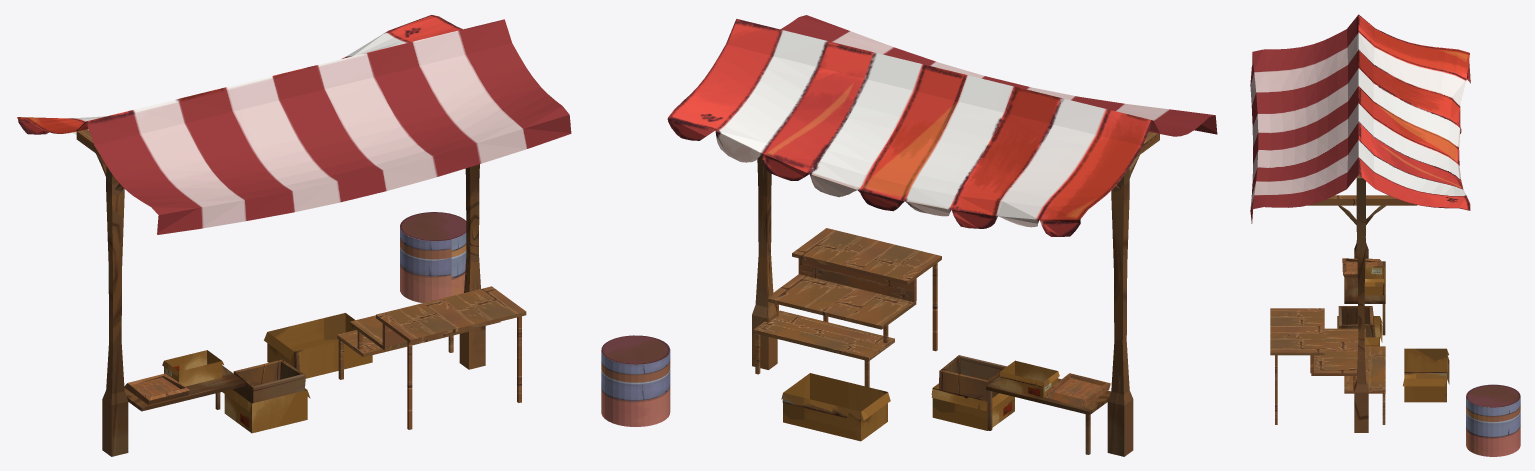
The model's file is tiendaotravez.fbx.
3 renders of one model, left to right at view 1: azimuth 30°, elevation 25°; view 2: azimuth 150°, elevation 25°; view 3: azimuth 270°, elevation 25°, orthographic. The views are drawn at different scales.
Parts seen in each view (by area): view 1: carpa1, barandaTienda, mesa2, cinlindroLowPoly, cajadeCarton, cajadeCarton2, cubodeMadera, cajapeque, mesa1.001, bandejatienda, mesa1; view 2: carpa1, mesa2, barandaTienda, cinlindroLowPoly, cajadeCarton, mesa1, cajadeCarton2, cubodeMadera, cajapeque, mesa1.001, bandejatienda; view 3: carpa1, mesa2, cinlindroLowPoly, barandaTienda, cajadeCarton, mesa1, Cube.002, cubodeMadera, mesa1.001, cajapeque, bandejatienda, cajadeCarton2.
Boxes of the visible parts, box(x1,y1,x2,y2) form: carpa1: box(17, 15, 571, 234); barandaTienda: box(96, 154, 485, 456); mesa2: box(350, 286, 526, 429); cinlindroLowPoly: box(400, 212, 466, 302); cajadeCarton: box(264, 313, 372, 378); cajadeCarton2: box(222, 388, 310, 433); cubodeMadera: box(233, 359, 305, 403); cajapeque: box(162, 350, 223, 386); mesa1.001: box(124, 365, 245, 411); bandejatienda: box(124, 373, 190, 404); mesa1: box(337, 327, 479, 379); carpa1: box(667, 15, 1217, 236); mesa2: box(768, 228, 941, 351); barandaTienda: box(752, 154, 1139, 456); cinlindroLowPoly: box(601, 335, 670, 426); cajadeCarton: box(781, 373, 890, 441); mesa1: box(753, 310, 894, 387); cajadeCarton2: box(931, 383, 1014, 430); cubodeMadera: box(939, 355, 1006, 401); cajapeque: box(999, 360, 1059, 398); mesa1.001: box(986, 376, 1110, 454); bandejatienda: box(1046, 373, 1110, 407); carpa1: box(1250, 14, 1470, 223); mesa2: box(1270, 308, 1365, 424); cinlindroLowPoly: box(1466, 384, 1520, 456); barandaTienda: box(1338, 175, 1385, 432); cajadeCarton: box(1403, 348, 1449, 402); mesa1: box(1344, 346, 1385, 424); Cube.002: box(1307, 195, 1417, 205); cubodeMadera: box(1338, 306, 1375, 337); mesa1.001: box(1344, 261, 1385, 335); cajapeque: box(1364, 266, 1385, 295); bandejatienda: box(1342, 258, 1382, 277); cajadeCarton2: box(1337, 316, 1382, 346).
Bounding box in the file's own units: 15.5 × 9.92 × 10.81.
1 material, 1 textured.
